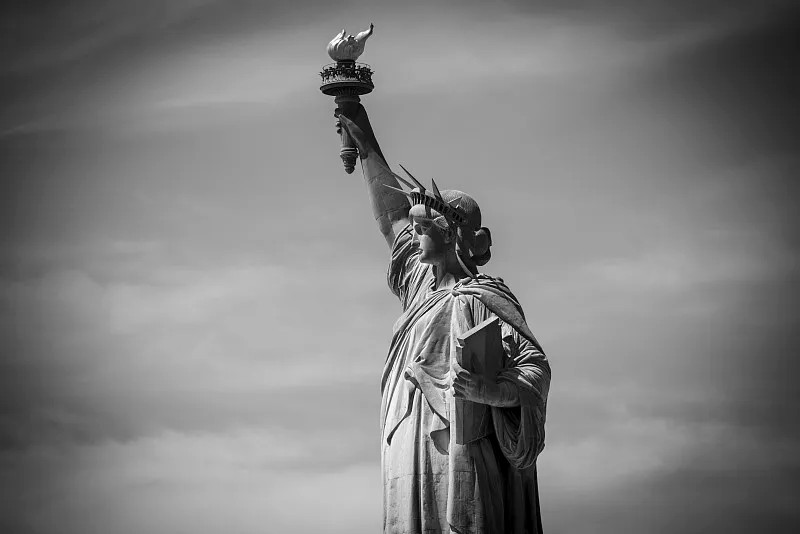SL: (319, 22, 553, 534)
